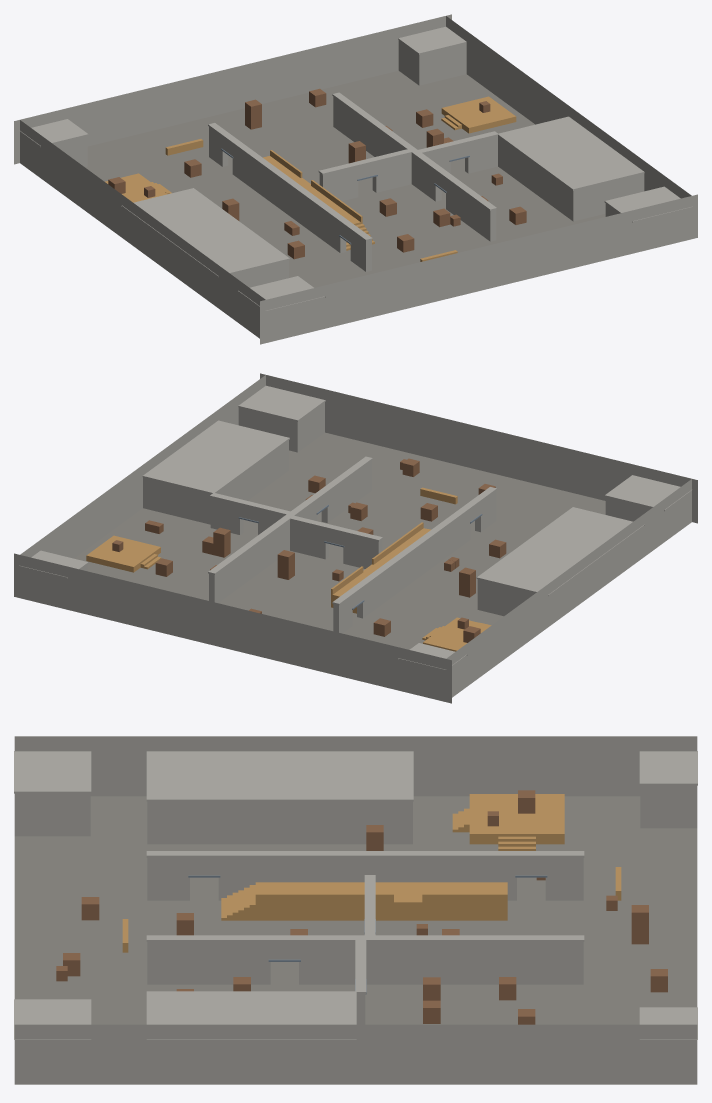
File: dunes.glb
The picture shows the model from 3 angles, top to bottom: view 1: azimuth 30°, elevation 25°; view 2: azimuth 150°, elevation 25°; view 3: azimuth 270°, elevation 25°; orthographic projection. The views are drawn at different scales.
Visible parts, largest first — view 1: dunes; view 2: dunes; view 3: dunes.
Part boxes in pixels (bbox=[...]): dunes: bbox=[14, 14, 697, 344]; dunes: bbox=[14, 373, 697, 703]; dunes: bbox=[14, 736, 697, 1084].
Size of the model in its own units: 74 by 7 by 72.16.
